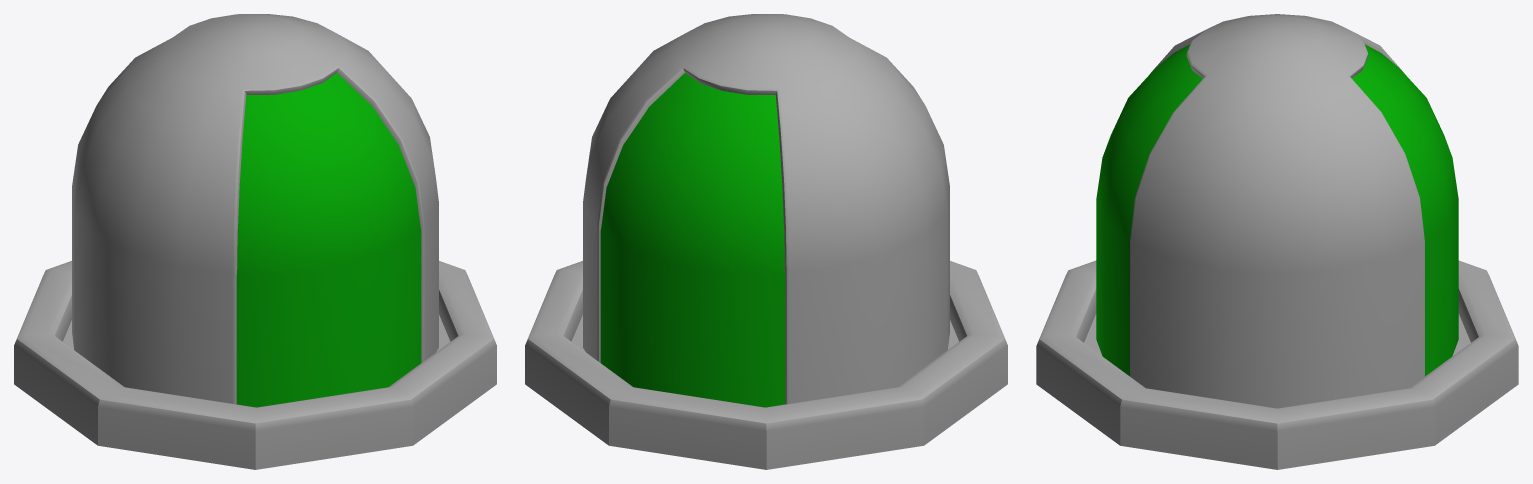
Rendered from AlarmLight1.fbx.
3 views of the same model, side by side, from view 1: azimuth 30°, elevation 25°; view 2: azimuth 150°, elevation 25°; view 3: azimuth 270°, elevation 25° (orthographic).
Visible parts, largest first — view 1: LampCap, LampEmission, LampModelV4; view 2: LampCap, LampEmission, LampModelV4; view 3: LampCap, LampModelV4, LampEmission.
Part boxes in pixels (box(x1,y1,x2,y2)): LampCap: box(72, 14, 438, 404); LampEmission: box(236, 73, 421, 407); LampModelV4: box(14, 261, 496, 469); LampCap: box(583, 14, 949, 404); LampEmission: box(600, 73, 785, 407); LampModelV4: box(525, 261, 1007, 469); LampCap: box(1130, 14, 1424, 408); LampModelV4: box(1036, 260, 1518, 469); LampEmission: box(1096, 44, 1458, 376).
Size of the model in its own units: 0.00764 by 0.00596 by 0.00775.
